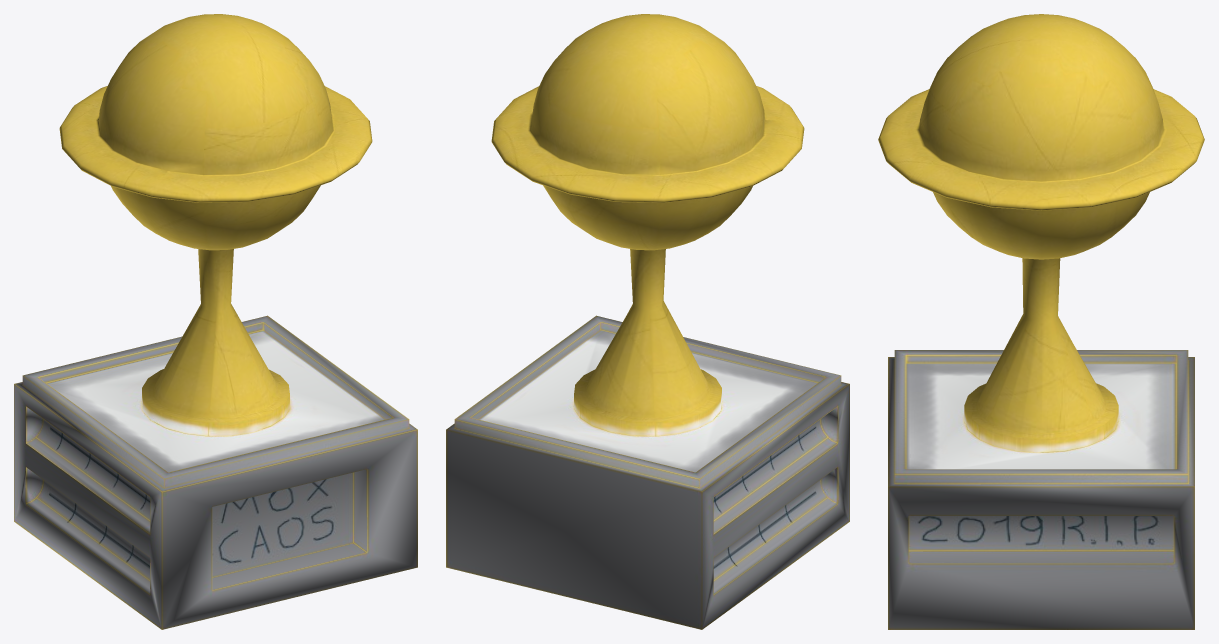
3 renders of one model, left to right at view 1: azimuth 30°, elevation 25°; view 2: azimuth 150°, elevation 25°; view 3: azimuth 270°, elevation 25°, orthographic. The views are drawn at different scales.
Visible parts, largest first — view 1: Trophy_Low; view 2: Trophy_Low; view 3: Trophy_Low.
Part boxes in pixels (left/top/right/bottom): Trophy_Low: left=14, top=14, right=417, bottom=629; Trophy_Low: left=446, top=14, right=849, bottom=629; Trophy_Low: left=878, top=14, right=1204, bottom=629.
Bounding box in the file's own units: 1.1 × 2 × 1.1.
1 material, 1 textured.
